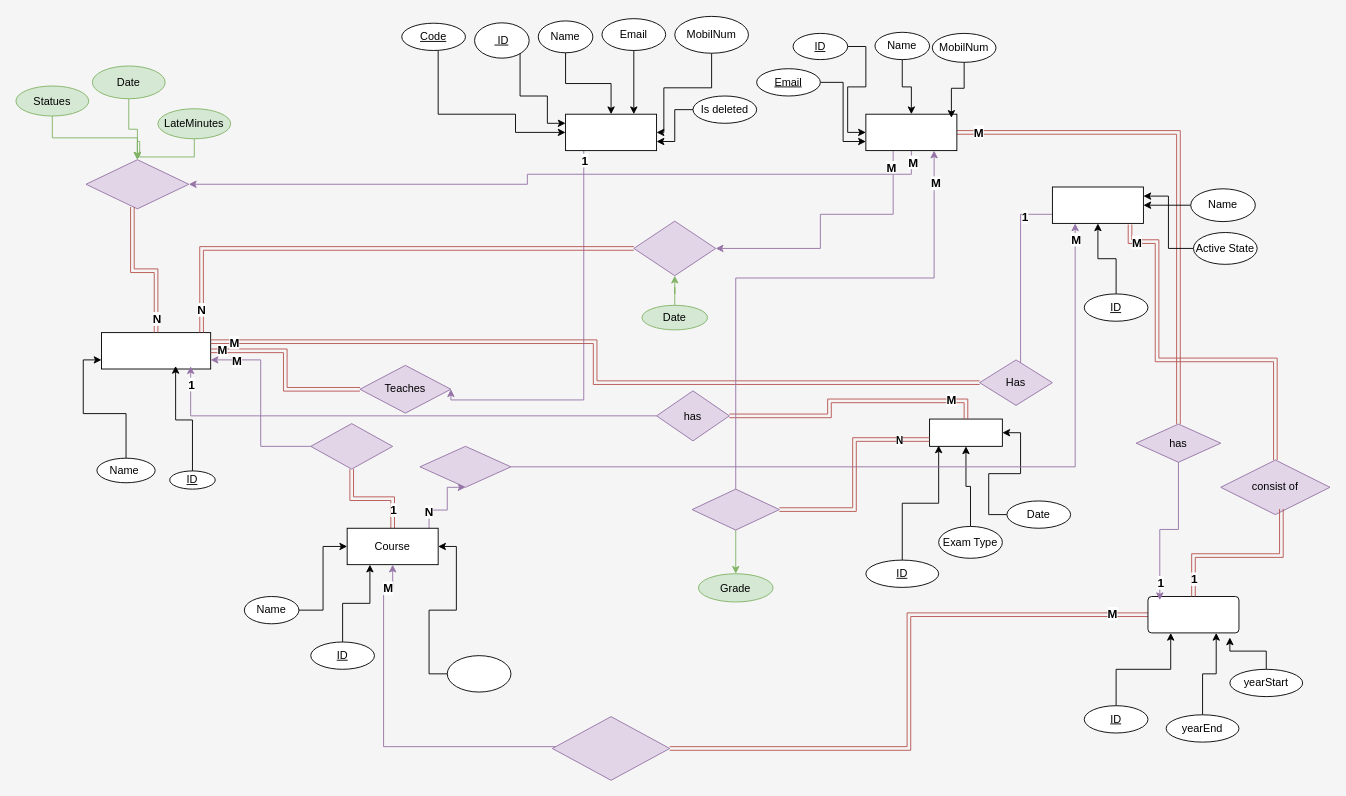
Image size: 1346x796. Some labels were removed from this diagram. The centre of each missing label's shape, as x and y in pixels:
"Academic year" belongs at point (1193, 614).
"Attend" belongs at point (137, 184).
"Class" belongs at point (156, 350).
"consists of" belongs at point (610, 748).
"Duration" belongs at point (478, 673).
"Enrolls in" belongs at point (674, 248).
"Exam" belongs at point (965, 432).
"ExamMarkes" belongs at point (735, 509).
"Instructor" belongs at point (611, 132).
"offered in" belongs at point (465, 466).
"scheduled for" belongs at point (351, 446).
"Semesters" belongs at point (1097, 204).
"students" belongs at point (911, 132).
